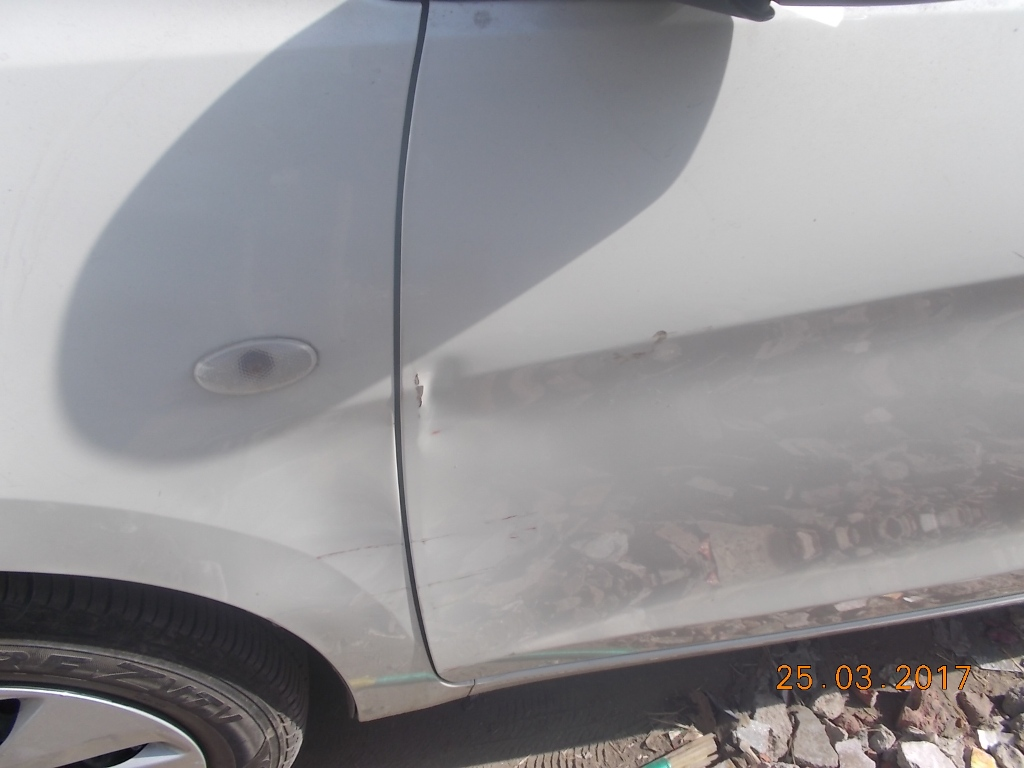Scratch_or_spot: (411, 364, 429, 411)
